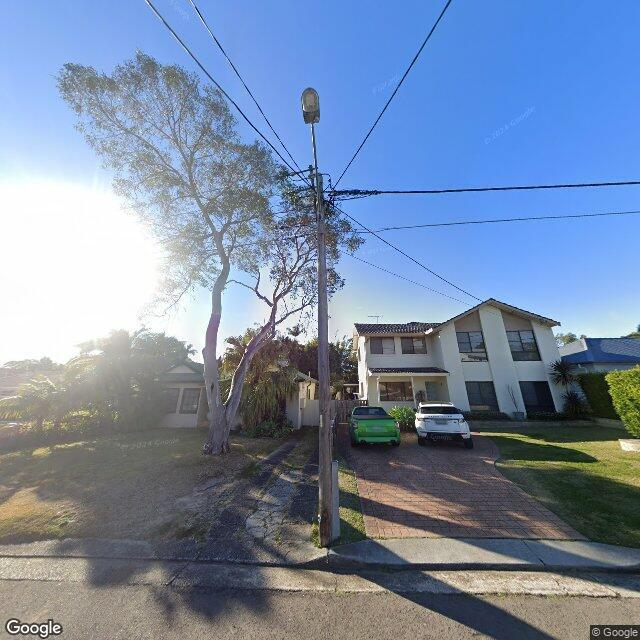crossarm: (308, 163, 317, 214)
streetlight: (302, 87, 321, 223)
timber-pole: (316, 174, 339, 546)
